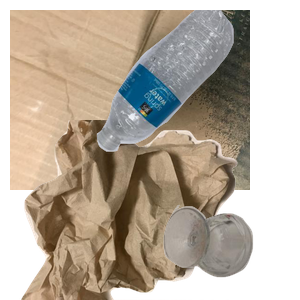cardboard: (10, 10, 250, 190)
glass: (161, 202, 300, 300)
plastic: (94, 10, 300, 154)
trash: (19, 120, 249, 300)
